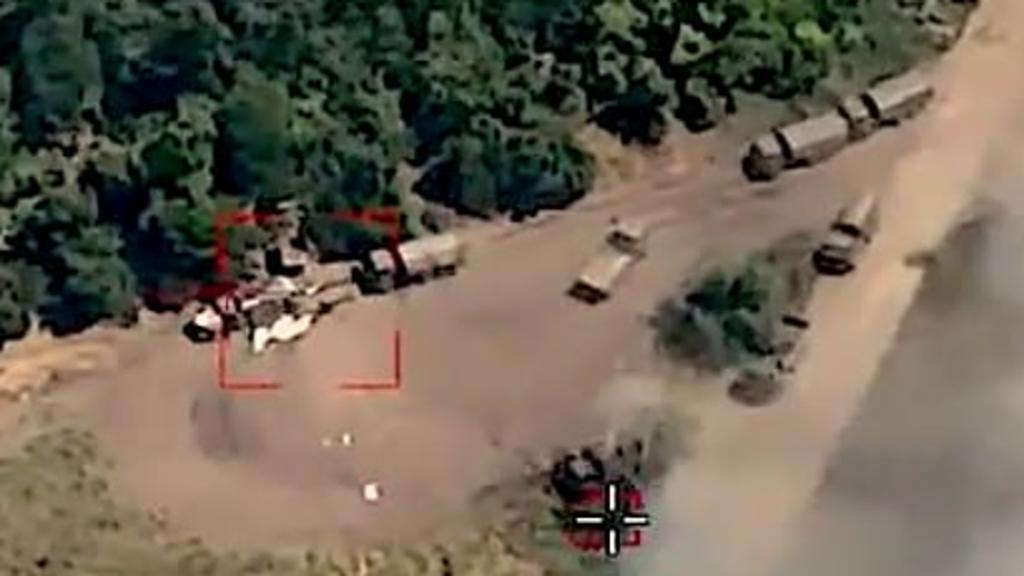TRUCK: (746, 106, 850, 182), (838, 64, 932, 142), (568, 220, 646, 303), (362, 230, 458, 293), (812, 190, 882, 272)
